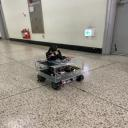cart: (34, 58, 85, 90)
